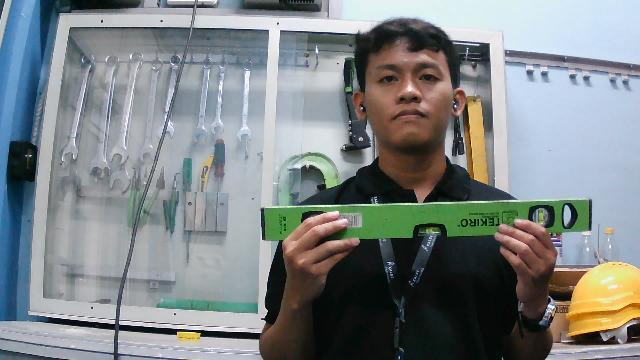water_pass: (257, 197, 597, 243)
